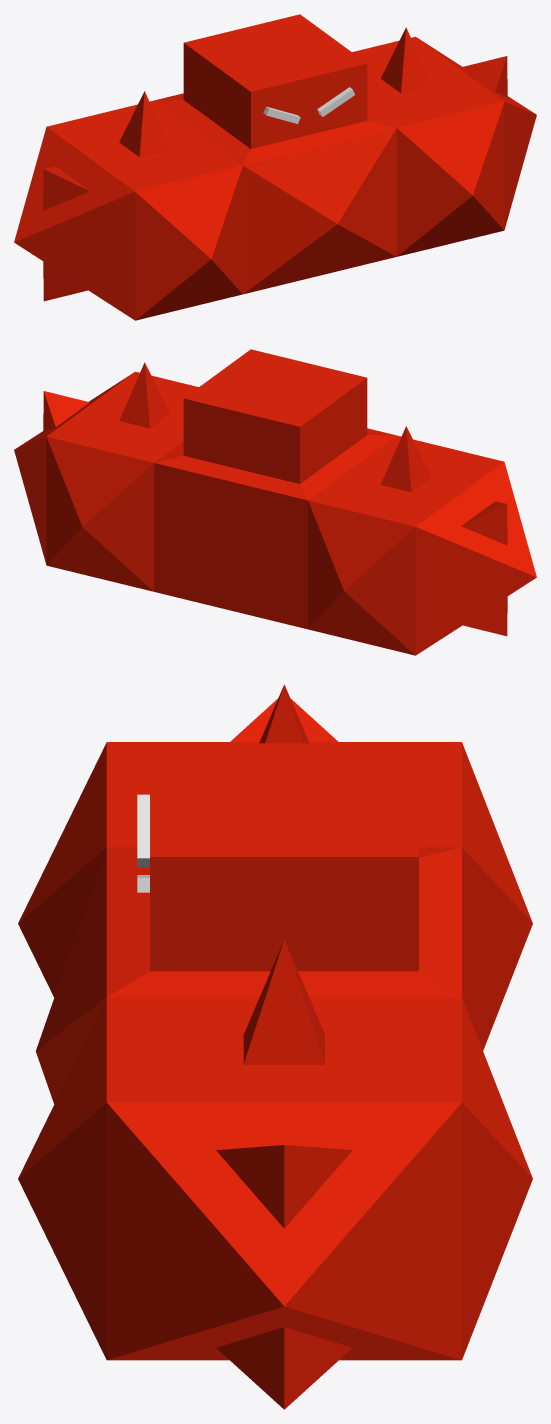
The model's file is Blockz.dae.
3 views of the same model, one above another, from view 1: azimuth 30°, elevation 25°; view 2: azimuth 150°, elevation 25°; view 3: azimuth 270°, elevation 25° (orthographic). The views are drawn at different scales.
Visible parts, largest first — view 1: Cube; view 2: Cube; view 3: Cube.
Boxes of the visible parts, <box> form: Cube: <box>14,14,536,320</box>; Cube: <box>14,349,536,655</box>; Cube: <box>18,684,532,1409</box>.
Size of the model in its own units: 6.8 by 2.9 by 2.38.
